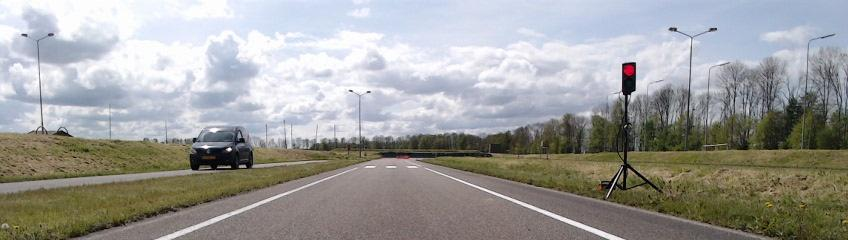TrafficLight-red: (622, 63, 636, 93)
